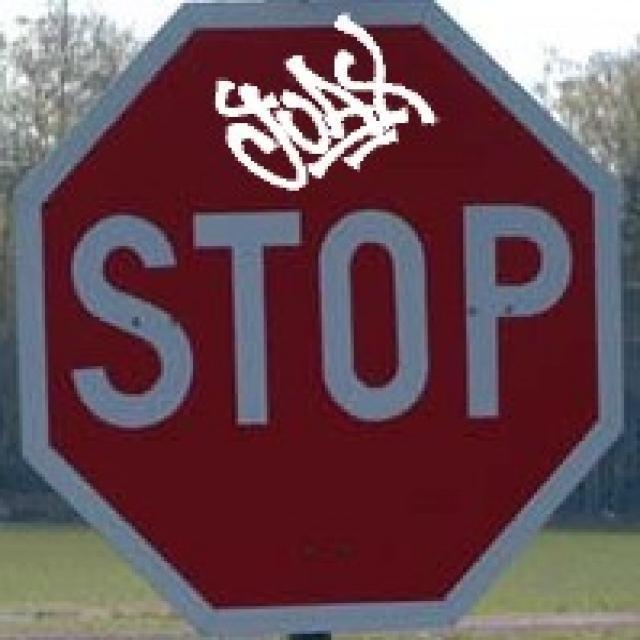Stop-Sign: (68, 33, 581, 590)
